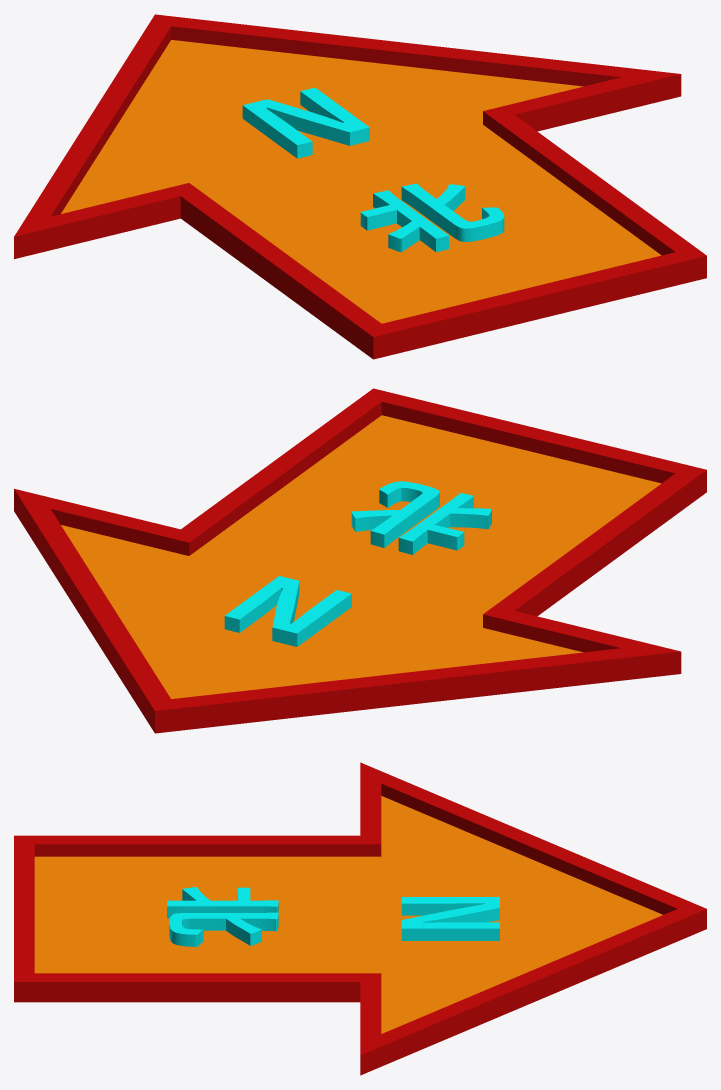
Rendered from FrecciaDelNord.fbx.
The picture shows the model from 3 angles, top to bottom: view 1: azimuth 30°, elevation 25°; view 2: azimuth 150°, elevation 25°; view 3: azimuth 270°, elevation 25°; orthographic projection. The views are drawn at different scales.
Visible parts, largest first — view 1: FrecciaDelNord; view 2: FrecciaDelNord; view 3: FrecciaDelNord.
Boxes of the visible parts, left/top/right/bottom form: FrecciaDelNord: left=14, top=14, right=706, bottom=359; FrecciaDelNord: left=14, top=388, right=706, bottom=733; FrecciaDelNord: left=14, top=762, right=706, bottom=1075.
Bounding box in the file's own units: 466 × 15 × 466.
